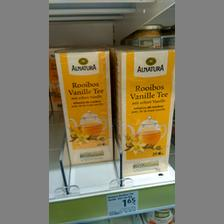Tee: (111, 48, 172, 176), (54, 47, 114, 165)
